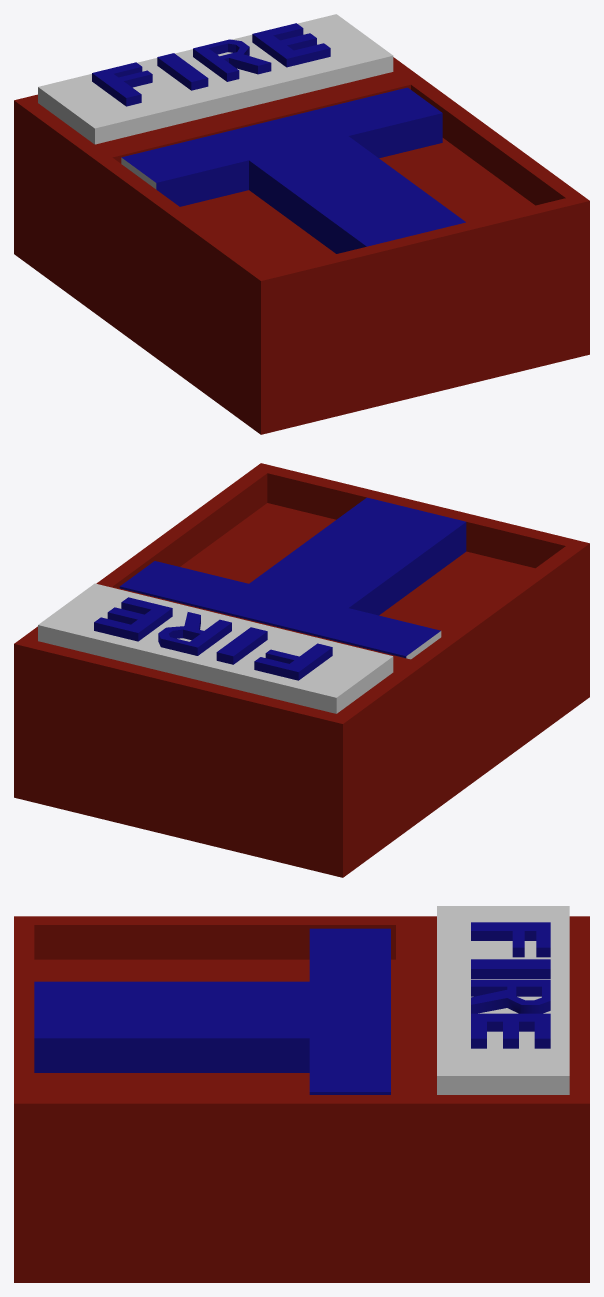
Rendered from AlarmaIncendios.fbx.
The picture shows the model from 3 angles, top to bottom: view 1: azimuth 30°, elevation 25°; view 2: azimuth 150°, elevation 25°; view 3: azimuth 270°, elevation 25°; orthographic projection. The views are drawn at different scales.
Parts seen in each view (by area): view 1: Box114; view 2: Box114; view 3: Box114.
Boxes of the visible parts, x1,y1,x2,y2 form: Box114: (14,14,589,434); Box114: (14,463,589,877); Box114: (14,906,589,1282).
Size of the model in its own units: 6.27 by 3.25 by 8.15.
